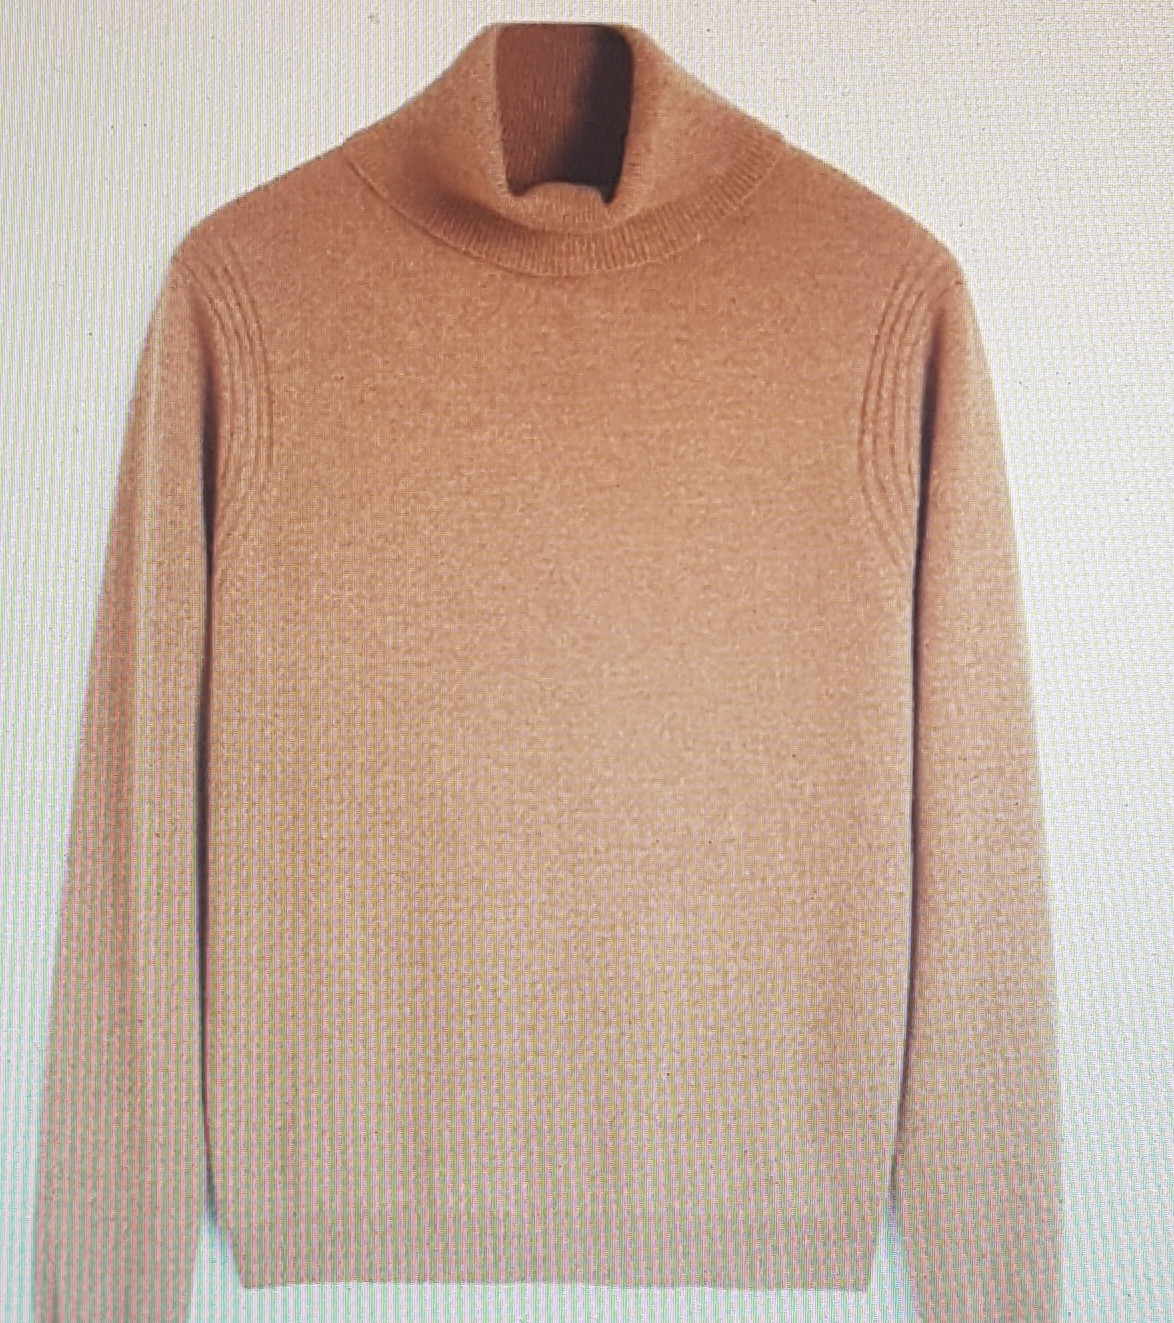Brown: (28, 17, 1072, 1294)
